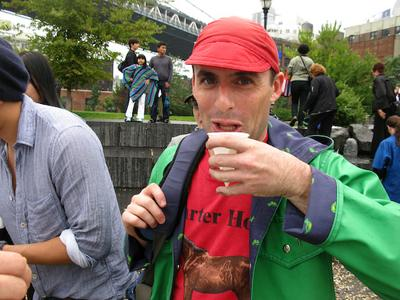person: (122, 16, 399, 300)
